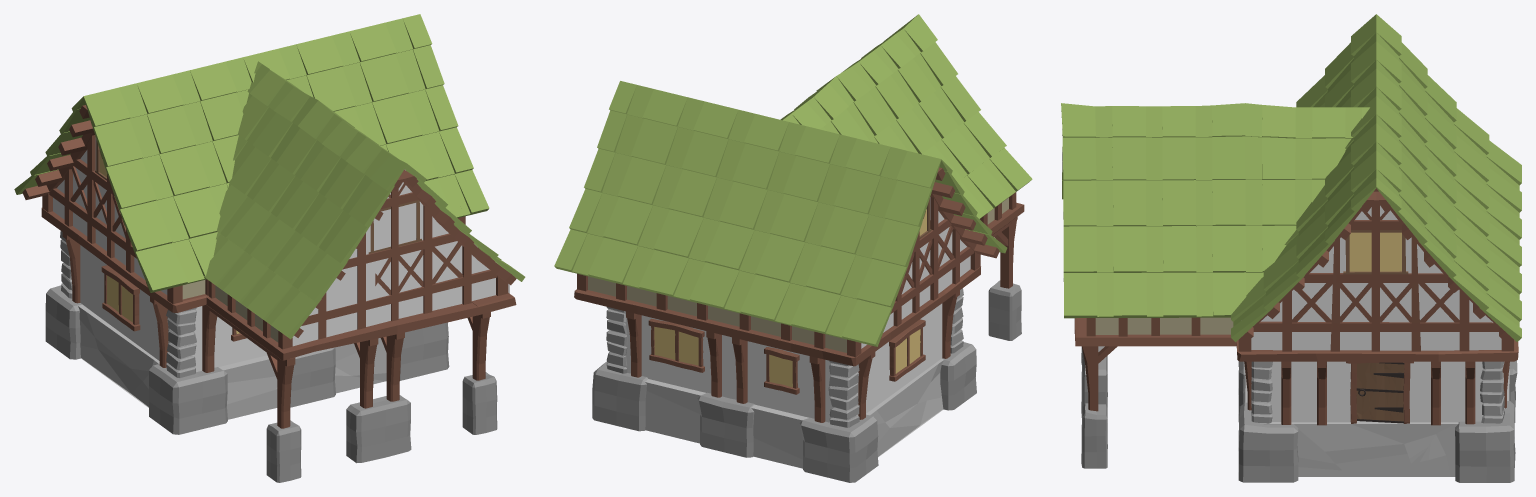
Rendered from cabaña.fbx.
The picture shows the model from 3 angles, left to right: view 1: azimuth 30°, elevation 25°; view 2: azimuth 150°, elevation 25°; view 3: azimuth 270°, elevation 25°; orthographic projection. The views are drawn at different scales.
Visible parts, largest first — view 1: techo1, techo2, piso .002, segundo piso, piso, paredes.002, paredes, paredes.005, ventana2, madera4E.001, madera3E.001; view 2: techo1, techo2, piso .002, paredes, piso, segundo piso, paredes.005, ventana5, ventana2, ventana4, madera3E, madera4I (+4 smaller); view 3: techo2, techo1, piso .002, paredes.003, piso, paredes, segundo piso, puerta, paredes.005, ventana segundo piso, marco puerta, madera1E.001 (+3 smaller).
Boxes of the visible parts, left/top/right/bottom form: techo1: left=14, top=14, right=489, bottom=304; techo2: left=203, top=61, right=525, bottom=349; piso .002: left=45, top=285, right=497, bottom=482; segundo piso: left=41, top=208, right=516, bottom=428; piso: left=78, top=305, right=386, bottom=419; paredes.002: left=292, top=169, right=509, bottom=346; paredes: left=53, top=137, right=495, bottom=371; paredes.005: left=60, top=231, right=196, bottom=377; ventana2: left=101, top=265, right=140, bottom=331; madera4E.001: left=62, top=232, right=80, bottom=303; madera3E.001: left=150, top=296, right=168, bottom=367; techo1: left=554, top=81, right=1007, bottom=357; techo2: left=780, top=14, right=1032, bottom=226; piso .002: left=592, top=280, right=1021, bottom=482; paredes: left=611, top=197, right=970, bottom=422; piso: left=645, top=358, right=943, bottom=468; segundo piso: left=574, top=202, right=1024, bottom=366; paredes.005: left=606, top=288, right=963, bottom=427; ventana5: left=648, top=318, right=704, bottom=372; ventana2: left=889, top=319, right=925, bottom=381; ventana4: left=764, top=347, right=799, bottom=394; madera3E: left=809, top=356, right=825, bottom=422; madera4I: left=732, top=337, right=747, bottom=403; techo2: left=1061, top=103, right=1369, bottom=336; techo1: left=1231, top=14, right=1521, bottom=351; piso .002: left=1081, top=346, right=1517, bottom=482; paredes.003: left=1251, top=205, right=1501, bottom=350; piso: left=1245, top=371, right=1509, bottom=476; paredes: left=1255, top=361, right=1488, bottom=422; segundo piso: left=1074, top=318, right=1518, bottom=411; puerta: left=1356, top=362, right=1404, bottom=423; paredes.005: left=1251, top=361, right=1504, bottom=423; ventana segundo piso: left=1343, top=230, right=1408, bottom=274; marco puerta: left=1346, top=361, right=1413, bottom=423; madera1E.001: left=1281, top=361, right=1291, bottom=424.
Size of the model in its own units: 35.87 by 30.38 by 40.43.
